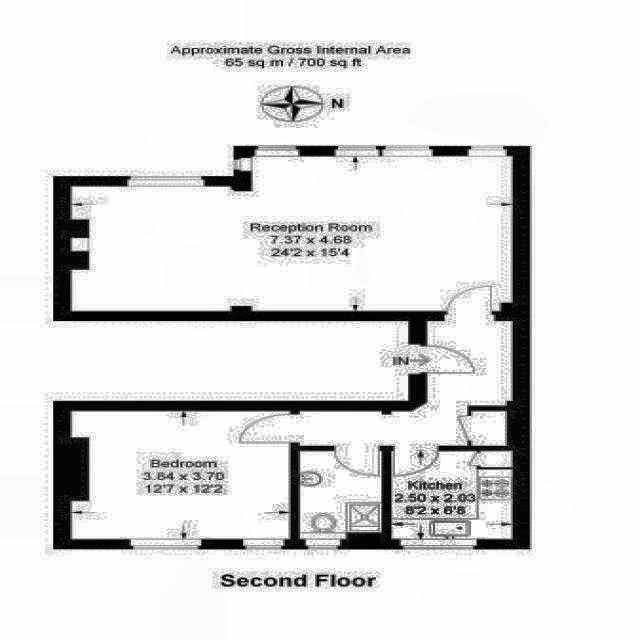room: (70, 156, 513, 312), (70, 410, 291, 539), (300, 314, 513, 447), (391, 451, 513, 540), (300, 451, 381, 533), (472, 411, 507, 446)
